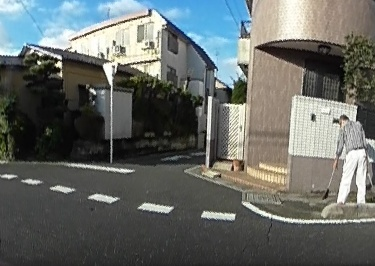person: (333, 113, 369, 205)
